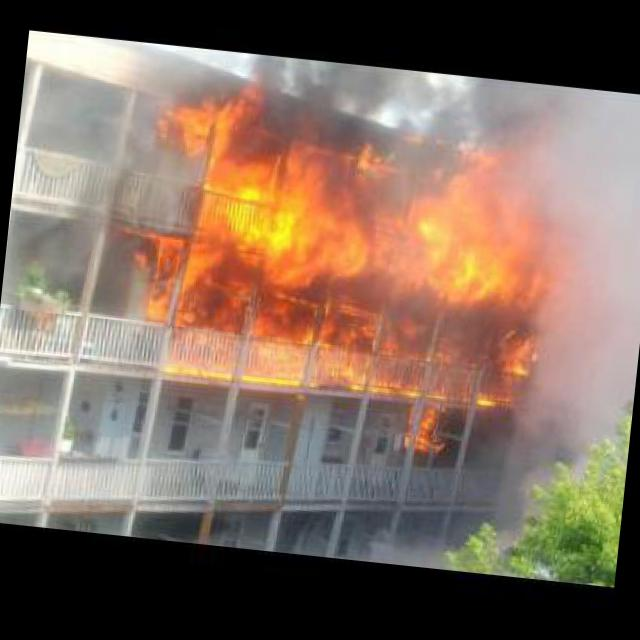fire: (168, 126, 554, 314), (138, 297, 544, 418), (150, 73, 260, 157), (400, 392, 466, 468)
smoke: (2, 30, 182, 305), (487, 261, 640, 550), (254, 52, 531, 156), (292, 267, 542, 349), (348, 518, 471, 570)
